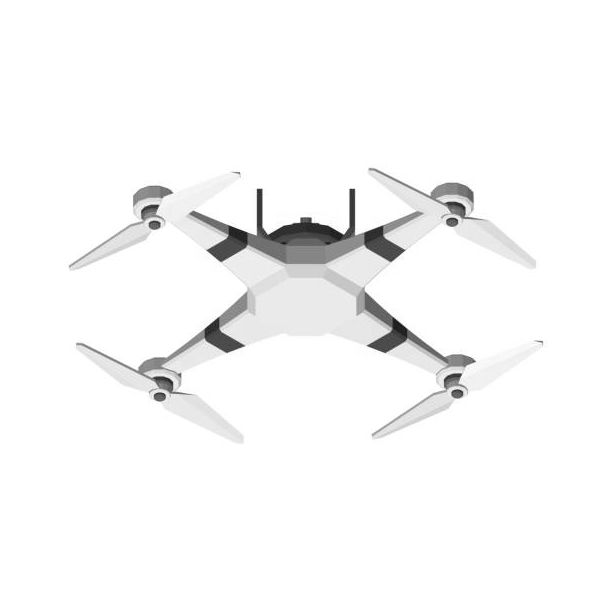Drone: (59, 160, 552, 451)
